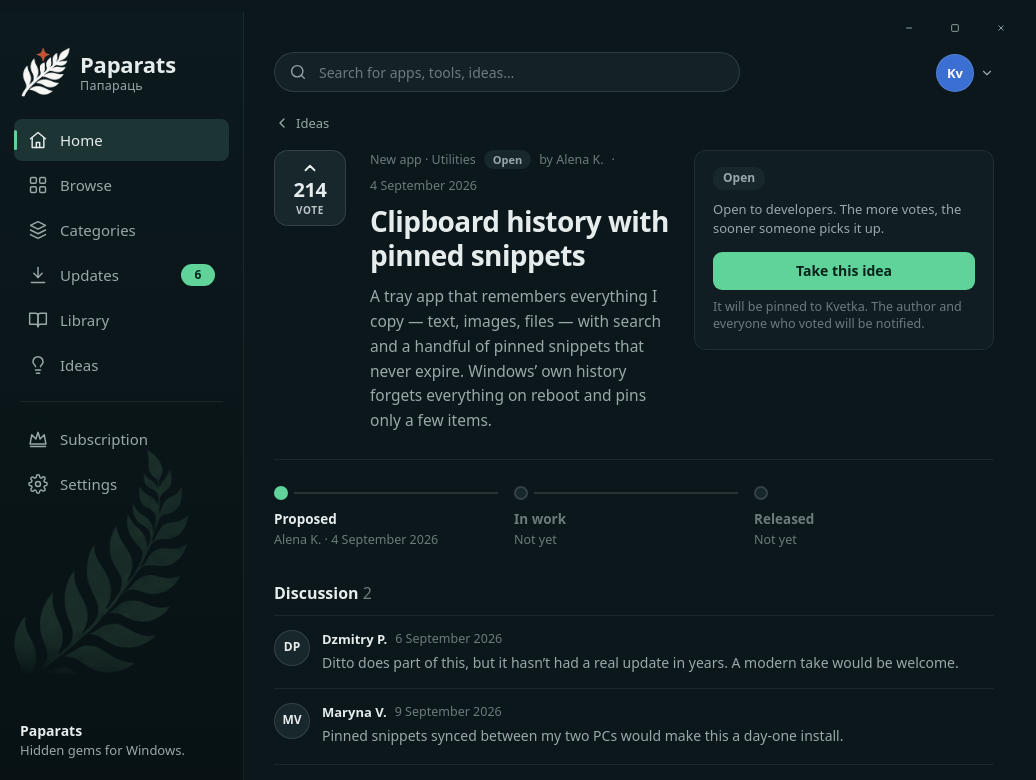
Test case: IdeaScreen › takes an open idea in the developer view
Expected: the heading "Clipboard history with pinned snippets" is shown, [370,205,670,272]
Expected: the text "It will be pinned to Kvetka. The author and everyone who voted will be notified." is shown, [713,298,975,333]
What coordinates should you click on to do the following:
click the button "Take this idea"
I would click on:
 (844, 271)
Its box is [713,252,975,290].
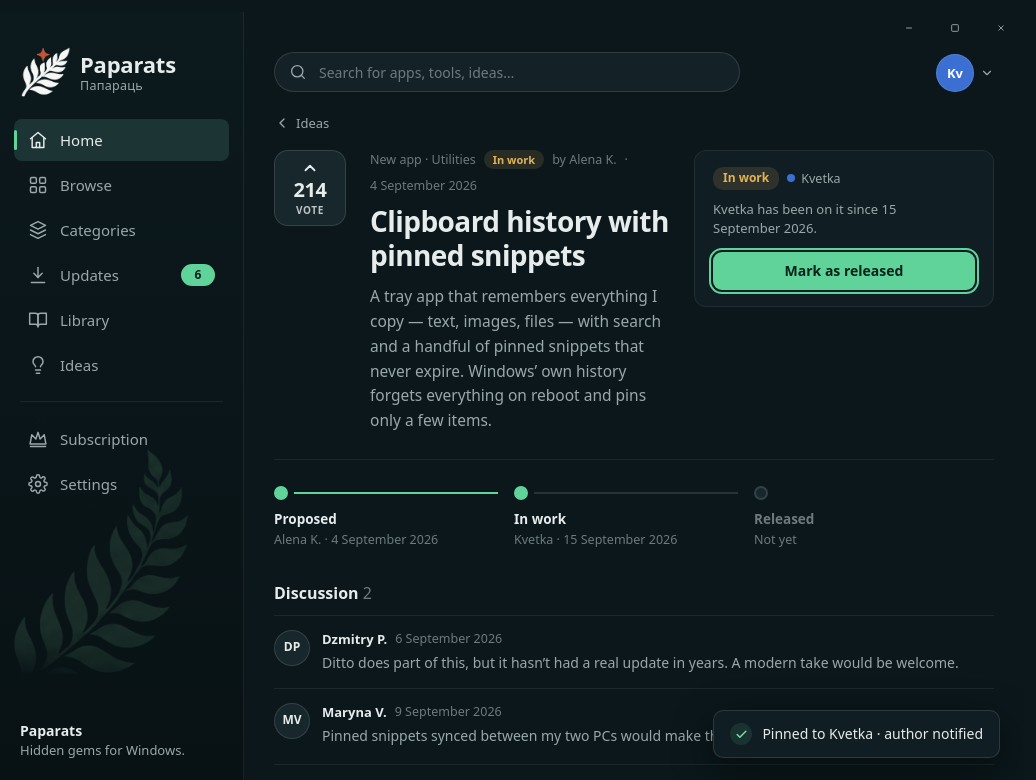
Now the 2nd text "In work" is shown, box [713,167,779,190]
Now the button "Mark as released" is shown, box [713,252,975,290]
Now the button "Take this idea" is gone
